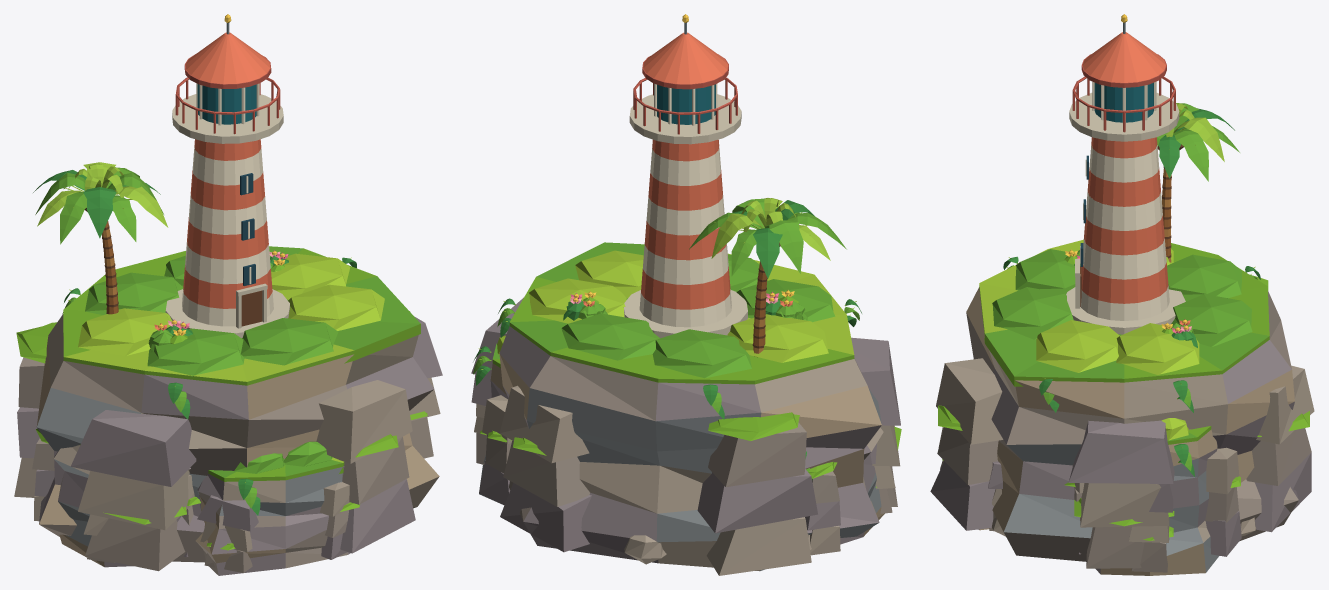
The model's file is lighthouse_islet.glb.
3 views of the same model, side by side, from view 1: azimuth 30°, elevation 25°; view 2: azimuth 150°, elevation 25°; view 3: azimuth 270°, elevation 25° (orthographic). The views are drawn at different scales.
Visible parts, largest first — view 1: lighthouse_islet_PC_LOD0; view 2: lighthouse_islet_PC_LOD0; view 3: lighthouse_islet_PC_LOD0.
Boxes of the visible parts, <box> form: lighthouse_islet_PC_LOD0: <box>14,14,442,575</box>; lighthouse_islet_PC_LOD0: <box>471,14,901,575</box>; lighthouse_islet_PC_LOD0: <box>930,14,1314,575</box>.
Bounding box in the file's own units: 10.74 × 12.9 × 9.35.
